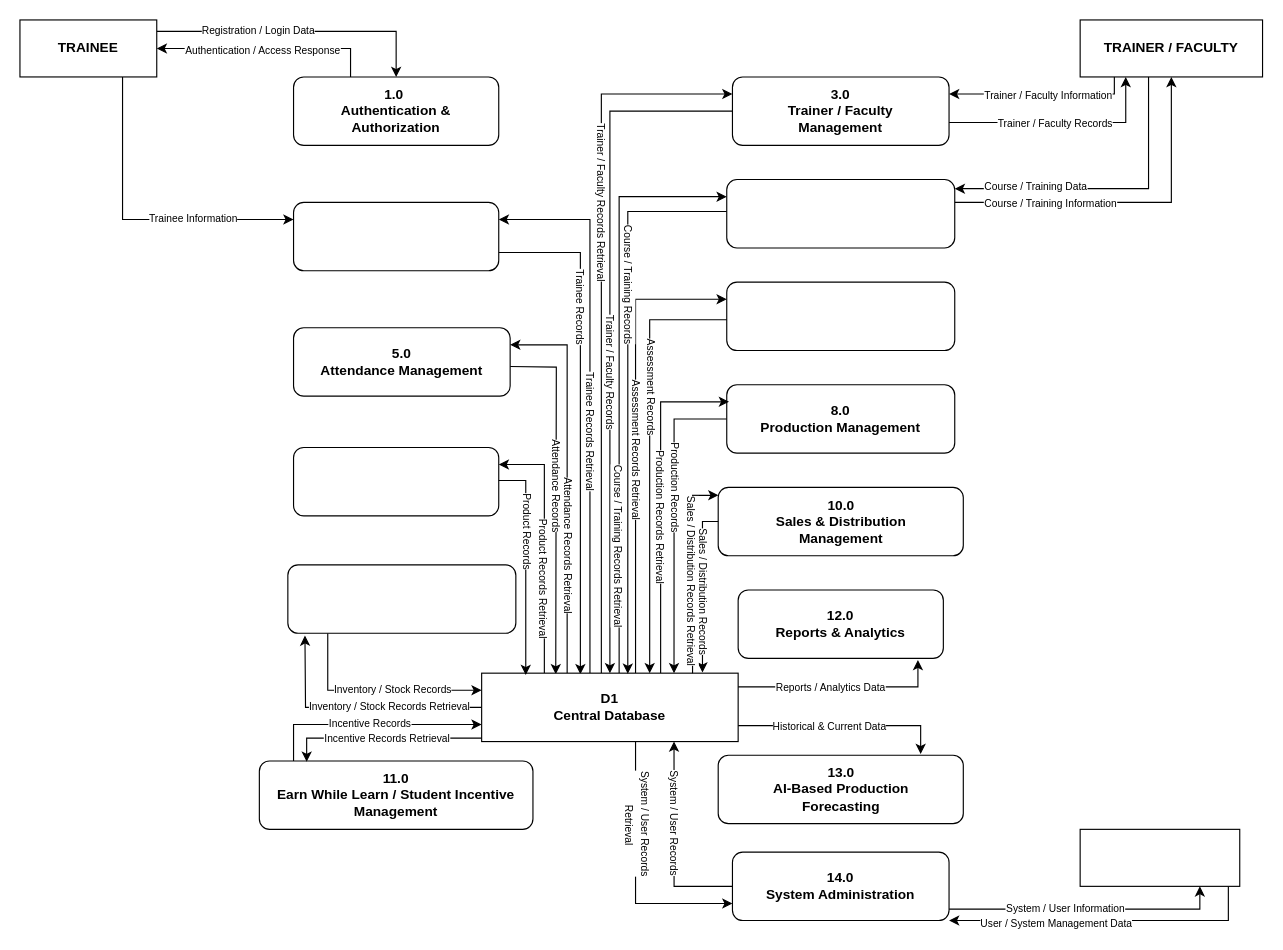
Image size: 1283x950. Some labels were removed from this diagram. The centre of each missing label's shape, as x and y in pixels:
2.0 Trainee Management: point (395, 236)
4.0 Course & Training Management: point (840, 213)
6.0 Assessment & Performance Management: point (840, 316)
7.0 Product Creation: point (395, 481)
9.0 Inventory & Stock Management: point (401, 598)
ADMINISTRATOR: point (1159, 857)
